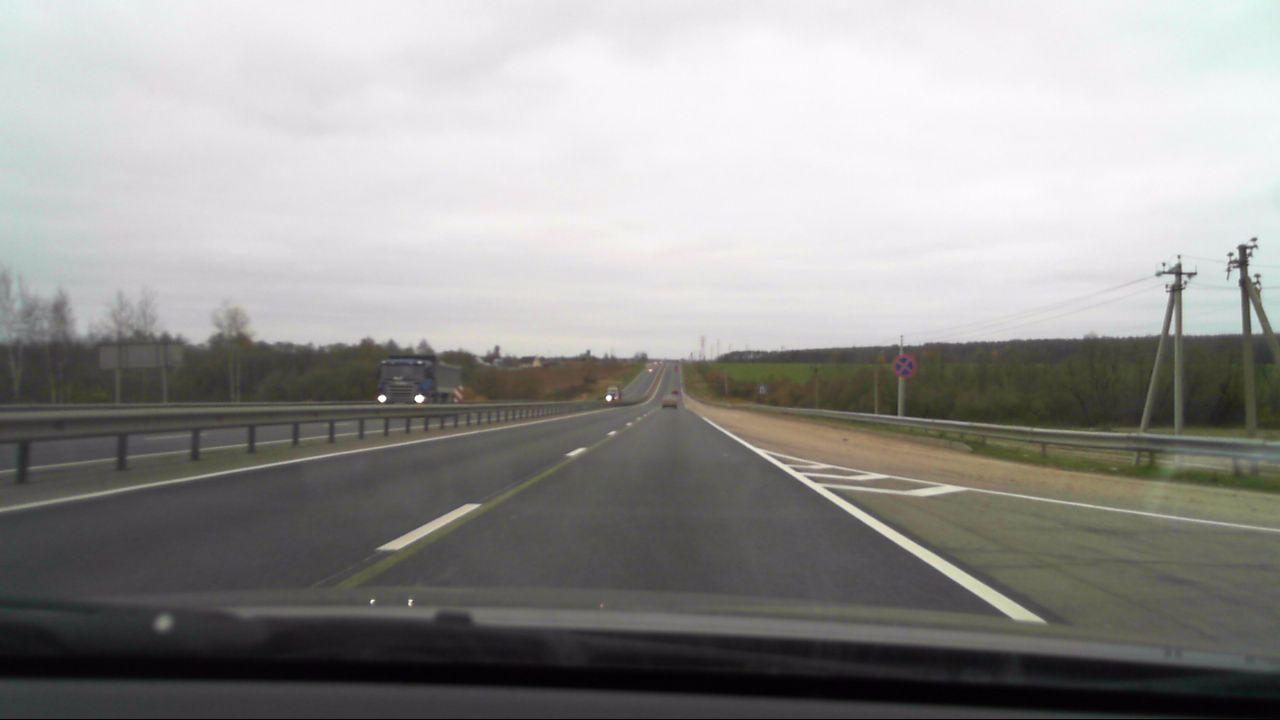No Parking: (893, 354, 913, 376)
